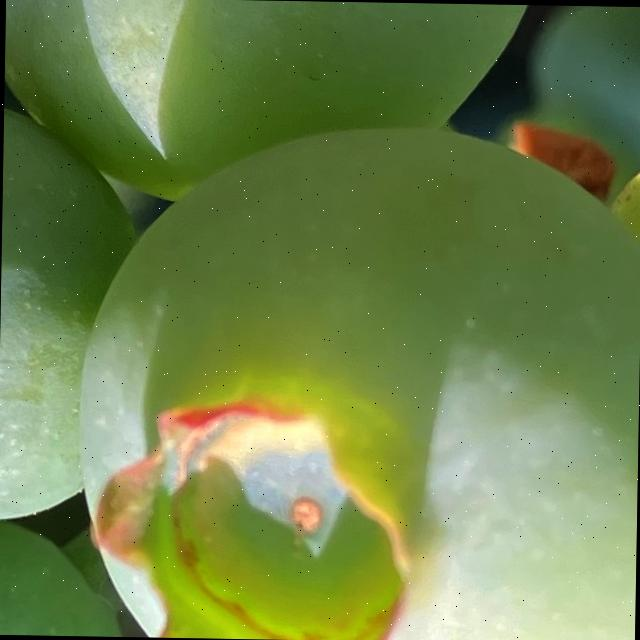Blueberries: (68, 113, 640, 640), (2, 0, 547, 199), (0, 93, 131, 561)
